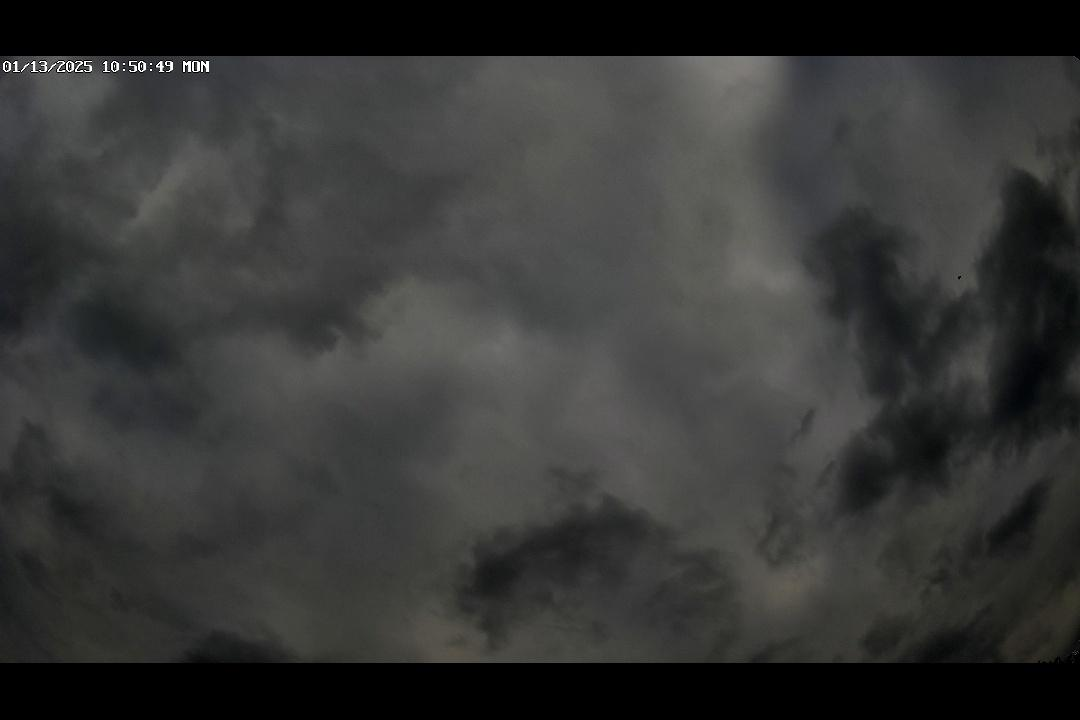WildLife: (949, 269, 971, 281)
